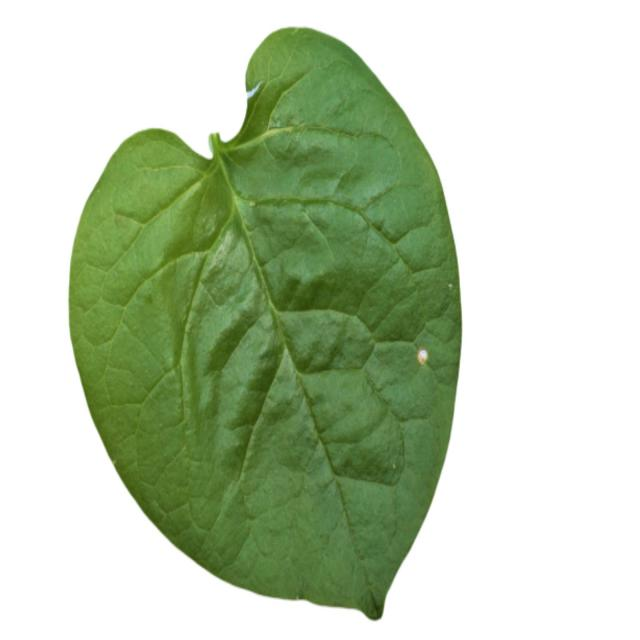Medicinal-Basale: (70, 26, 464, 621)
